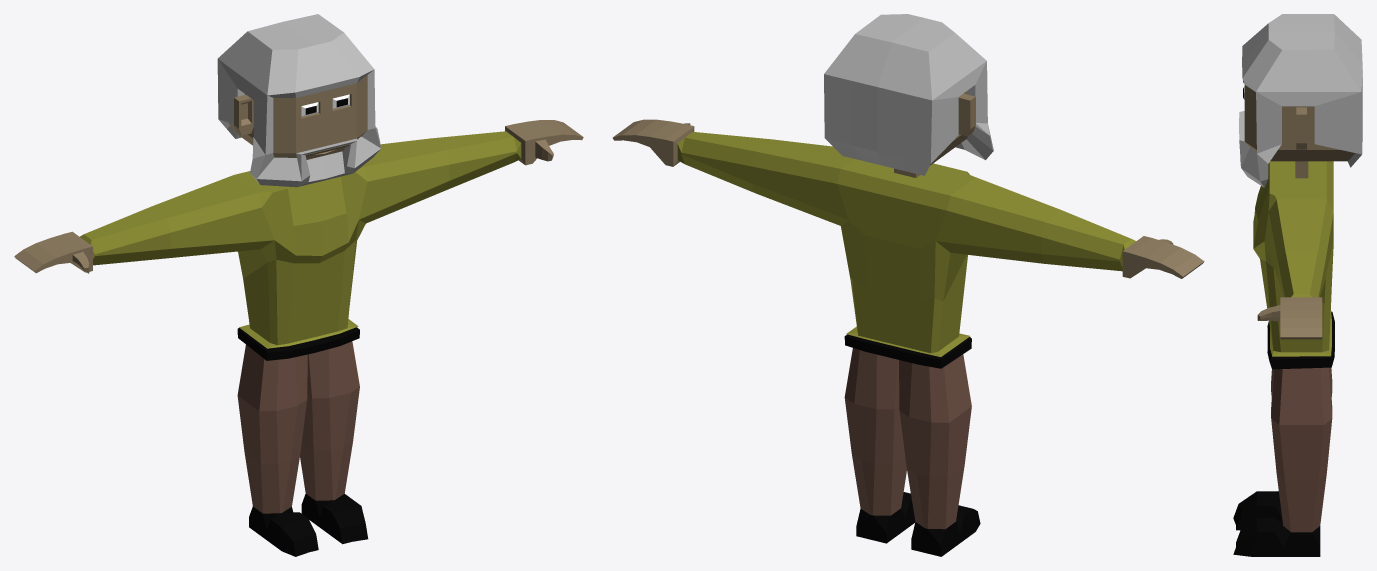
The model's file is temp-old-man.fbx.
The picture shows the model from 3 angles, left to right: view 1: azimuth 30°, elevation 25°; view 2: azimuth 150°, elevation 25°; view 3: azimuth 270°, elevation 25°; orthographic projection. The views are drawn at different scales.
Parts seen in each view (by area): view 1: simple male ch.001; view 2: simple male ch.001; view 3: simple male ch.001.
Boxes of the visible parts, <box> form: simple male ch.001: <box>14,14,583,556</box>; simple male ch.001: <box>612,14,1204,556</box>; simple male ch.001: <box>1233,14,1362,556</box>.
Size of the model in its own units: 1041 by 888 by 206.
